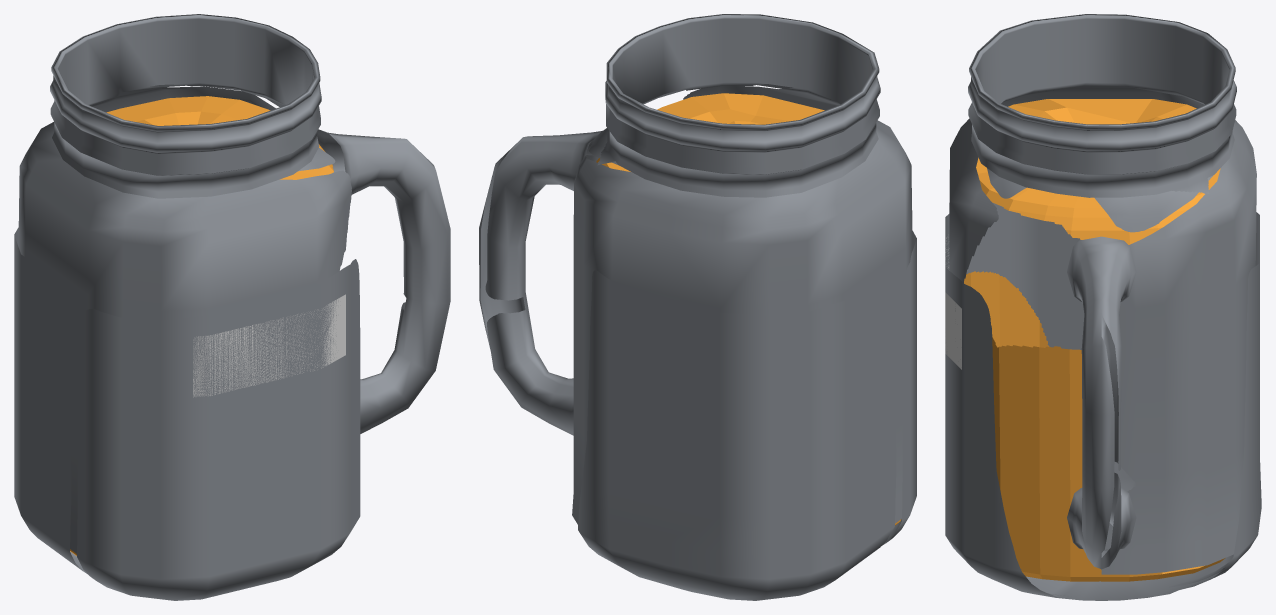
Rendered from Masonjar.fbx.
The picture shows the model from 3 angles, left to right: view 1: azimuth 30°, elevation 25°; view 2: azimuth 150°, elevation 25°; view 3: azimuth 270°, elevation 25°; orthographic projection.
Parts seen in each view (by area): view 1: Glass2, Lable, liquid; view 2: Glass2, liquid; view 3: Glass2, liquid, Lable.
Part boxes in pixels (bbox=[...]): Glass2: bbox=[14, 14, 450, 600]; Lable: bbox=[193, 294, 345, 397]; liquid: bbox=[70, 96, 333, 555]; Glass2: bbox=[479, 14, 916, 600]; liquid: bbox=[596, 93, 901, 525]; Glass2: bbox=[945, 14, 1261, 600]; liquid: bbox=[964, 99, 1225, 581]; Lable: bbox=[945, 237, 961, 369].
Size of the model in its own units: 0.1106 by 0.13 by 0.076.
